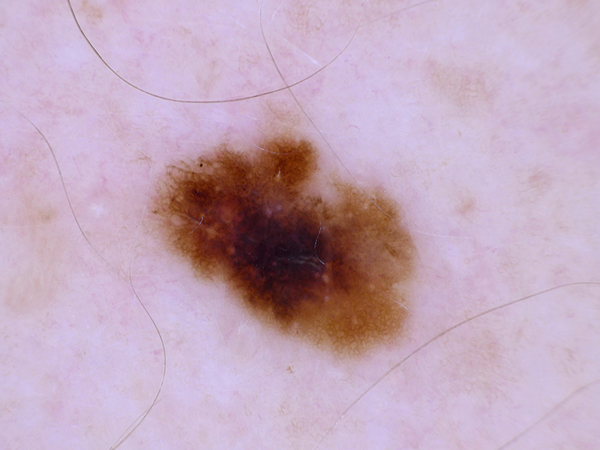Detected Lesion: (153, 122, 421, 361)
